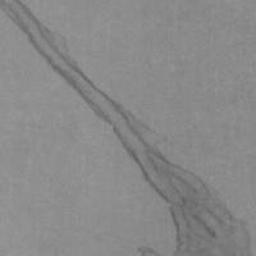Water spot: (0, 0, 252, 256), (137, 246, 162, 256)
